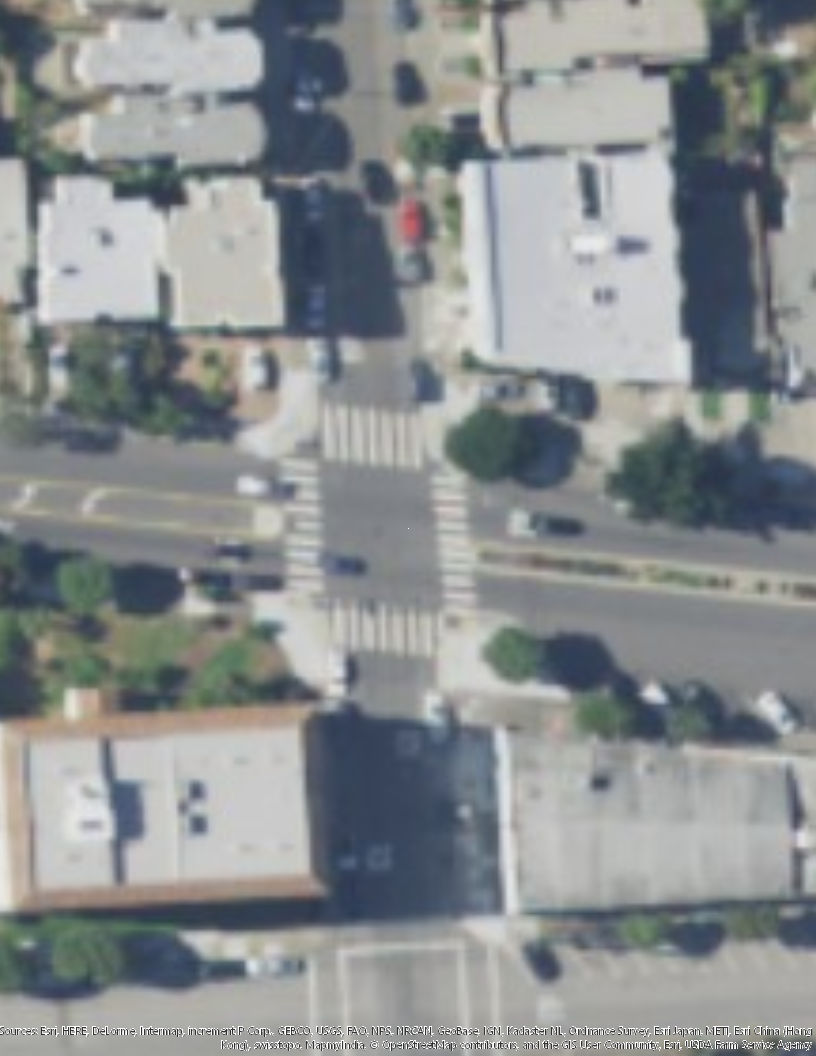zebracross: (427, 473, 480, 610), (317, 404, 425, 471), (330, 598, 440, 660), (279, 456, 325, 595)
